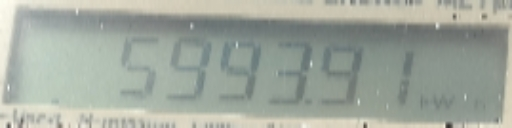1: (372, 43, 416, 113)
3: (269, 35, 313, 105)
5: (117, 32, 161, 102)
9: (167, 31, 211, 101), (217, 35, 261, 105), (318, 39, 362, 109)
d: (305, 94, 316, 108)
